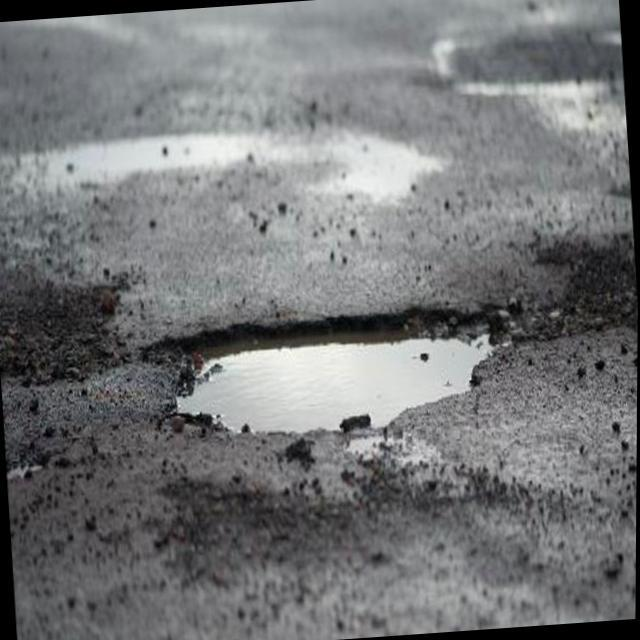Potholes: (150, 292, 513, 446)
